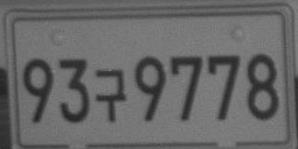3: (59, 58, 89, 122)
7: (170, 56, 203, 121), (207, 55, 240, 120)
8: (246, 53, 279, 120)
9: (134, 55, 166, 121), (22, 57, 53, 123)
구: (95, 68, 127, 123)
